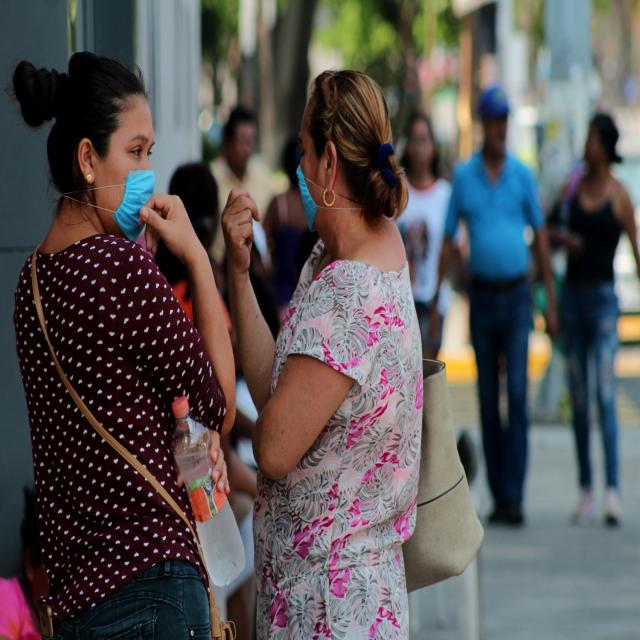adult: (17, 55, 237, 640), (224, 68, 423, 640), (444, 83, 560, 528), (536, 108, 634, 520)
